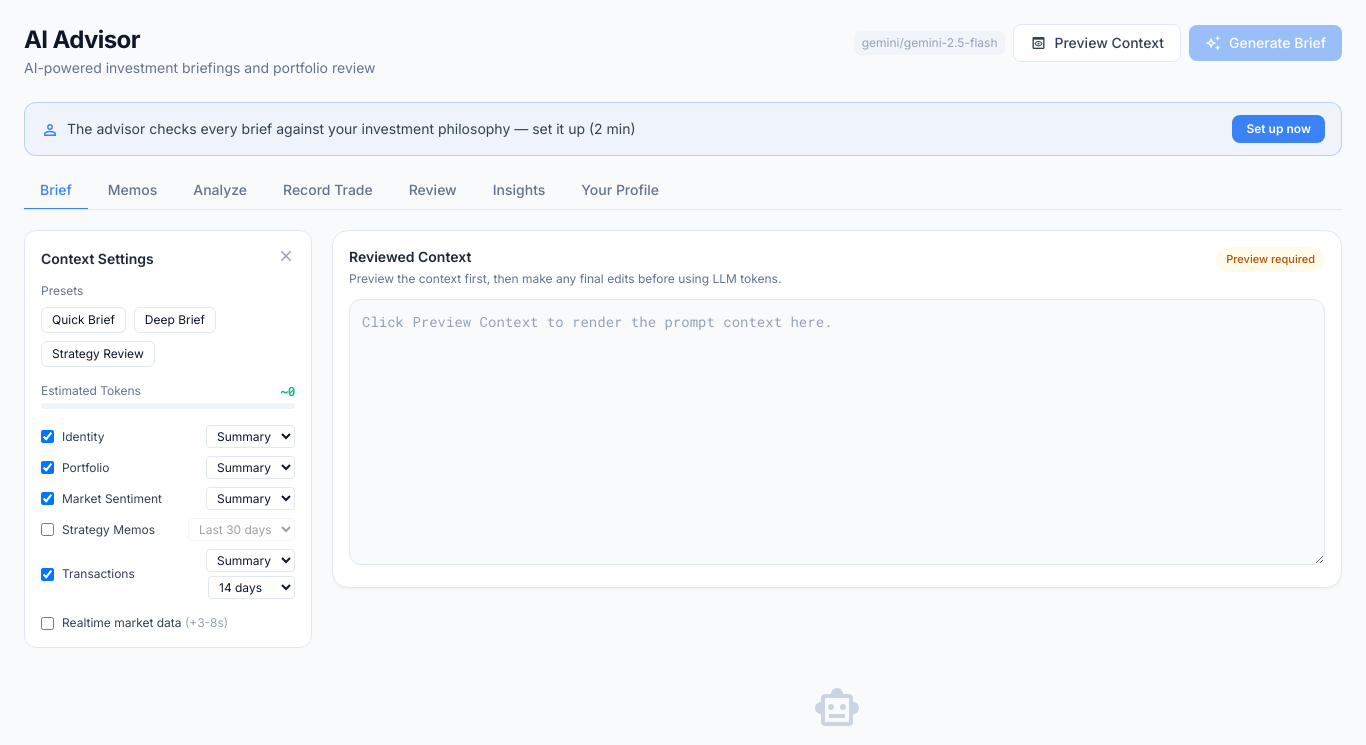
Test case: AI Advisor — Your profile tab and first-run callout › shows the callout when the profile is empty, and clicking it opens the profile tab/editor
Expected: the text "The advisor checks every brief against your investment philosophy" is shown, [67, 120, 636, 137]
Step 1. Click the button "Set up now" → {"x": 1279, "y": 129}, box [1232, 115, 1325, 143]
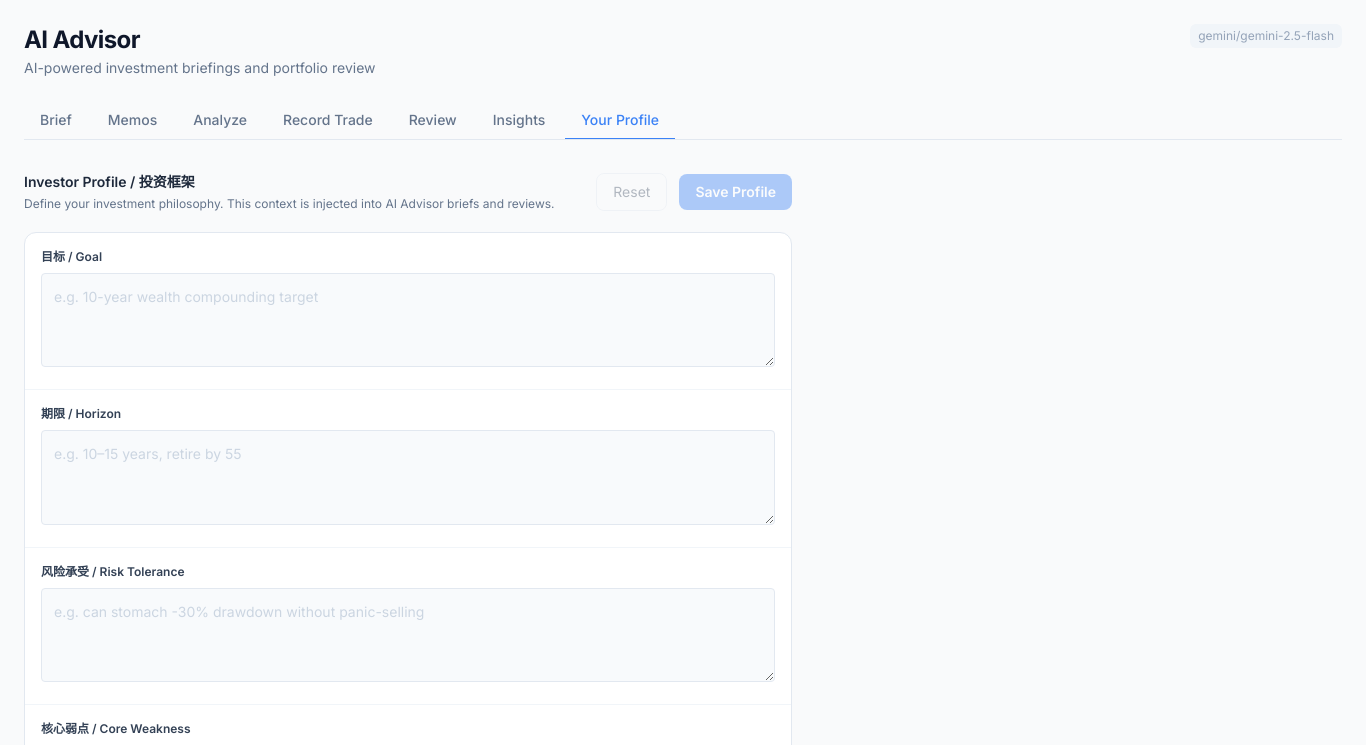
Result: the heading "Investor Profile / 投资框架" is shown at [24, 173, 195, 190]
Result: the text "The advisor checks every brief against your investment philosophy" is gone
